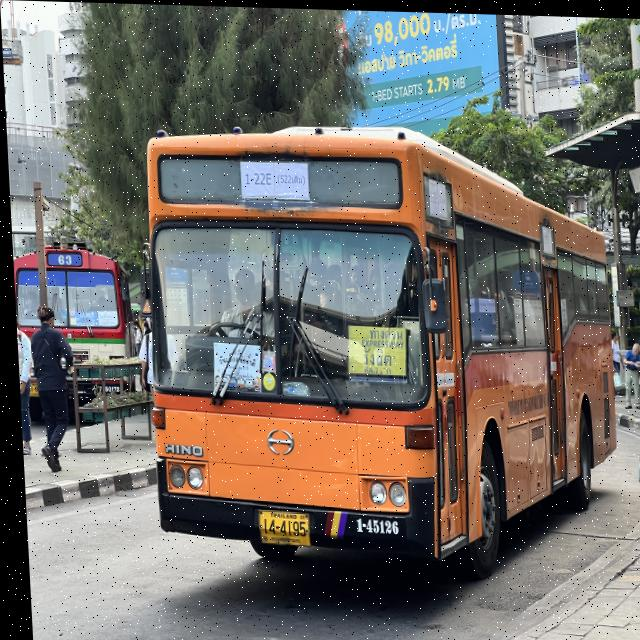BMTA-bus: (143, 125, 613, 575), (11, 243, 142, 419)
Bus Line Number: (237, 156, 310, 205), (53, 252, 71, 265)
Bus Side Number: (347, 508, 401, 541)
Destination Sign: (338, 320, 405, 377)
